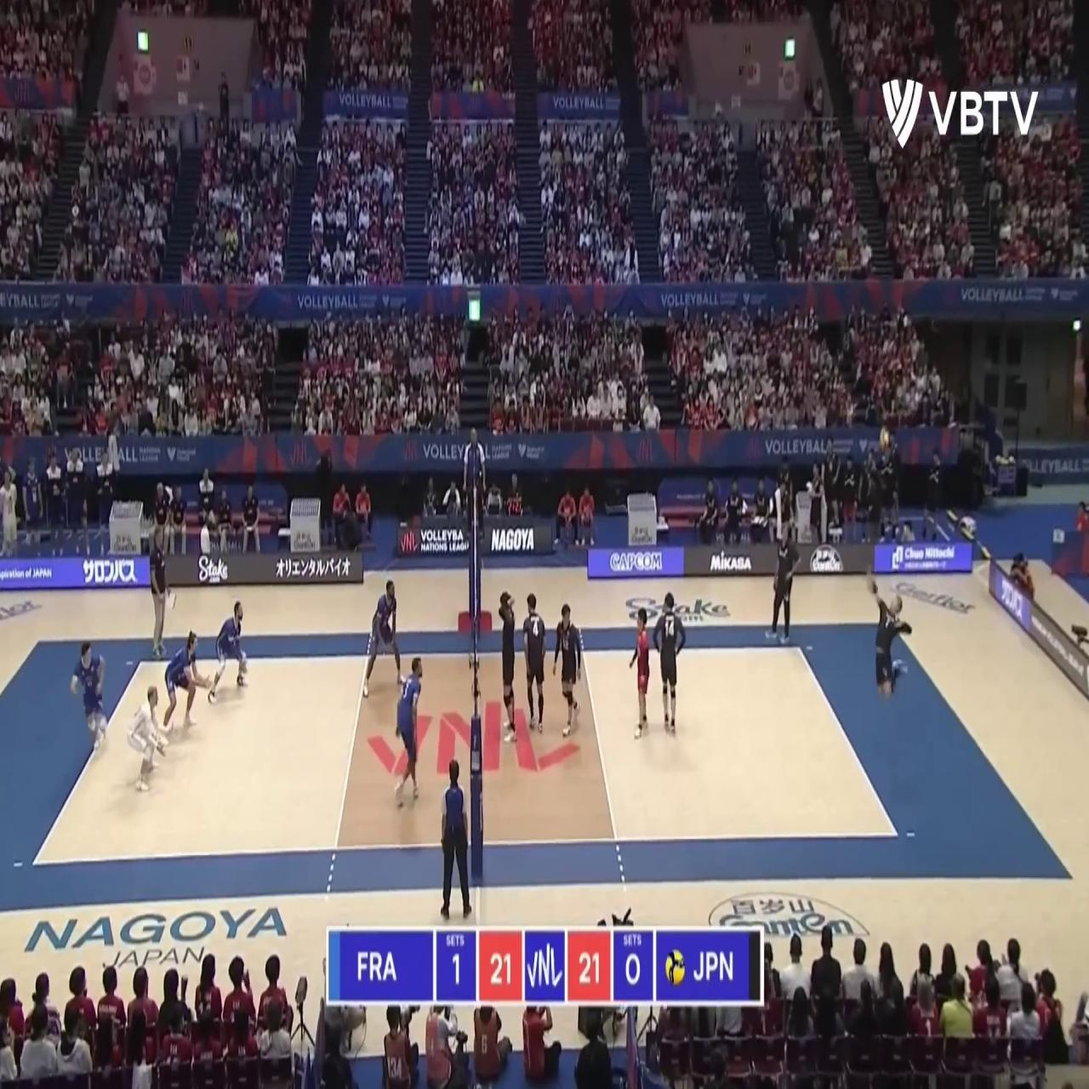ball: (879, 428, 890, 450)
